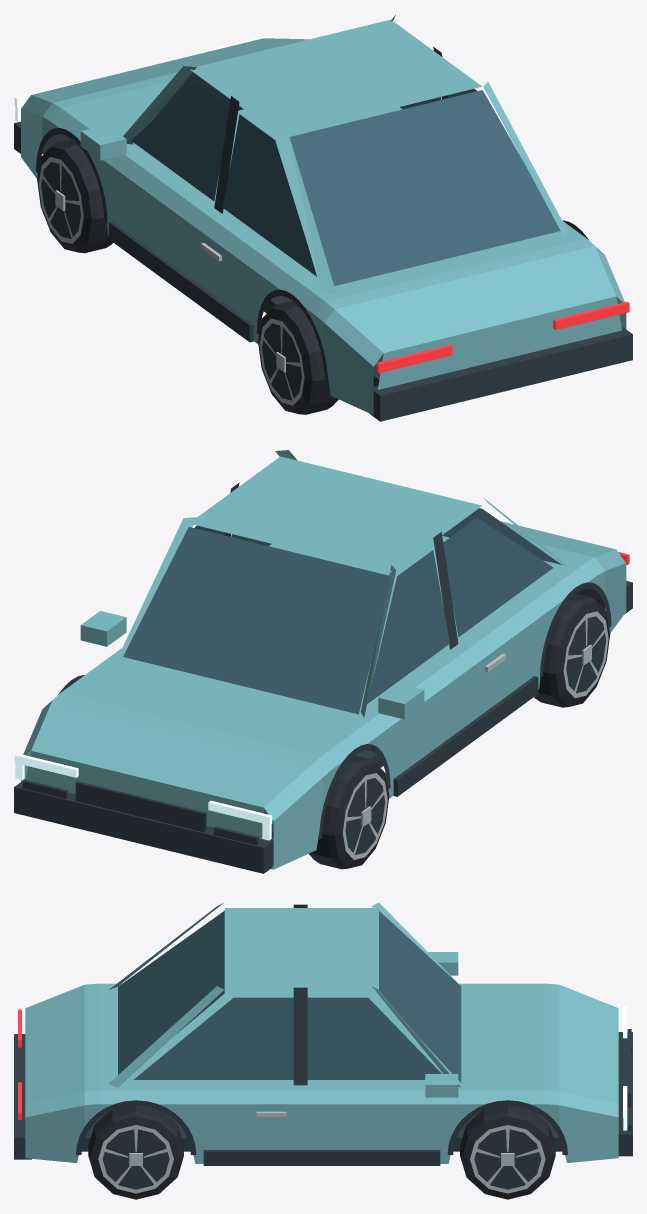
The model's file is luma_c.glb.
3 views of the same model, one above another, from view 1: azimuth 30°, elevation 25°; view 2: azimuth 150°, elevation 25°; view 3: azimuth 270°, elevation 25° (orthographic). The views are drawn at different scales.
Parts seen in each view (by area): view 1: Body, Wheel_2, Wheel_0; view 2: Body, Wheel_0, Wheel_2; view 3: Body, Wheel_1, Wheel_3.
Boxes of the visible parts, <box> form: Body: <box>14,15,632,421</box>; Wheel_2: <box>258,301,338,414</box>; Wheel_0: <box>37,139,113,253</box>; Body: <box>14,450,632,873</box>; Wheel_0: <box>309,755,389,869</box>; Wheel_2: <box>534,593,610,707</box>; Body: <box>14,902,632,1165</box>; Wheel_1: <box>460,1105,555,1199</box>; Wheel_3: <box>88,1105,183,1199</box>.
Size of the model in its own units: 2.1 by 1.43 by 4.13.
